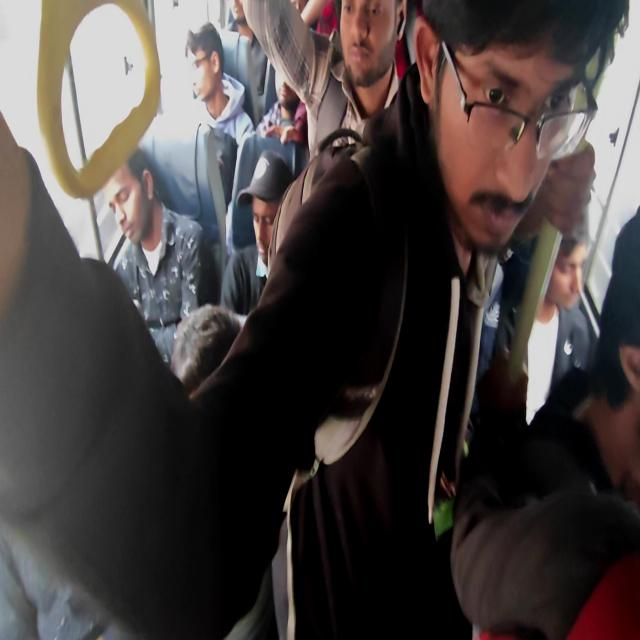person: (426, 23, 560, 235), (599, 237, 640, 492), (170, 310, 248, 420), (244, 171, 297, 275), (99, 156, 161, 236), (338, 0, 394, 82), (541, 226, 581, 310), (185, 31, 227, 108)
